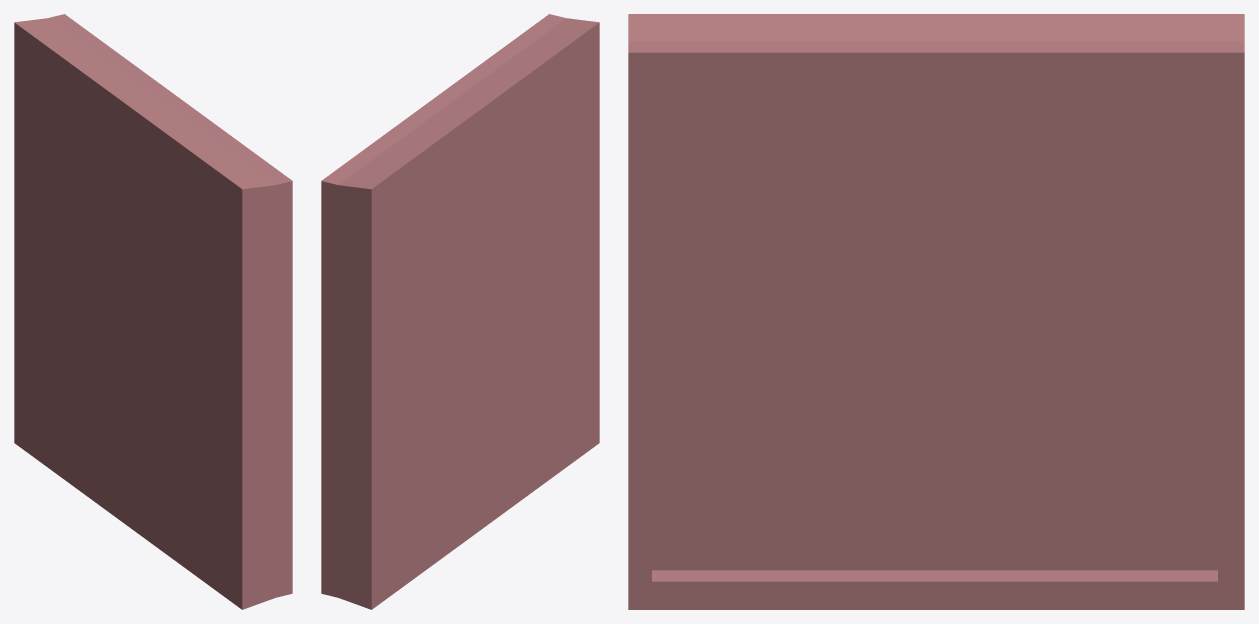
The picture shows the model from 3 angles, left to right: view 1: azimuth 30°, elevation 25°; view 2: azimuth 150°, elevation 25°; view 3: azimuth 270°, elevation 25°; orthographic projection. The views are drawn at different scales.
Parts seen in each view (by area): view 1: Cube.024; view 2: Cube.024; view 3: Cube.024.
Boxes of the visible parts, left/top/right/bottom form: Cube.024: left=14, top=14, right=292, bottom=609; Cube.024: left=321, top=14, right=599, bottom=609; Cube.024: left=628, top=14, right=1244, bottom=609.
Size of the model in its own units: 0.0516 by 0.4113 by 0.4043.
